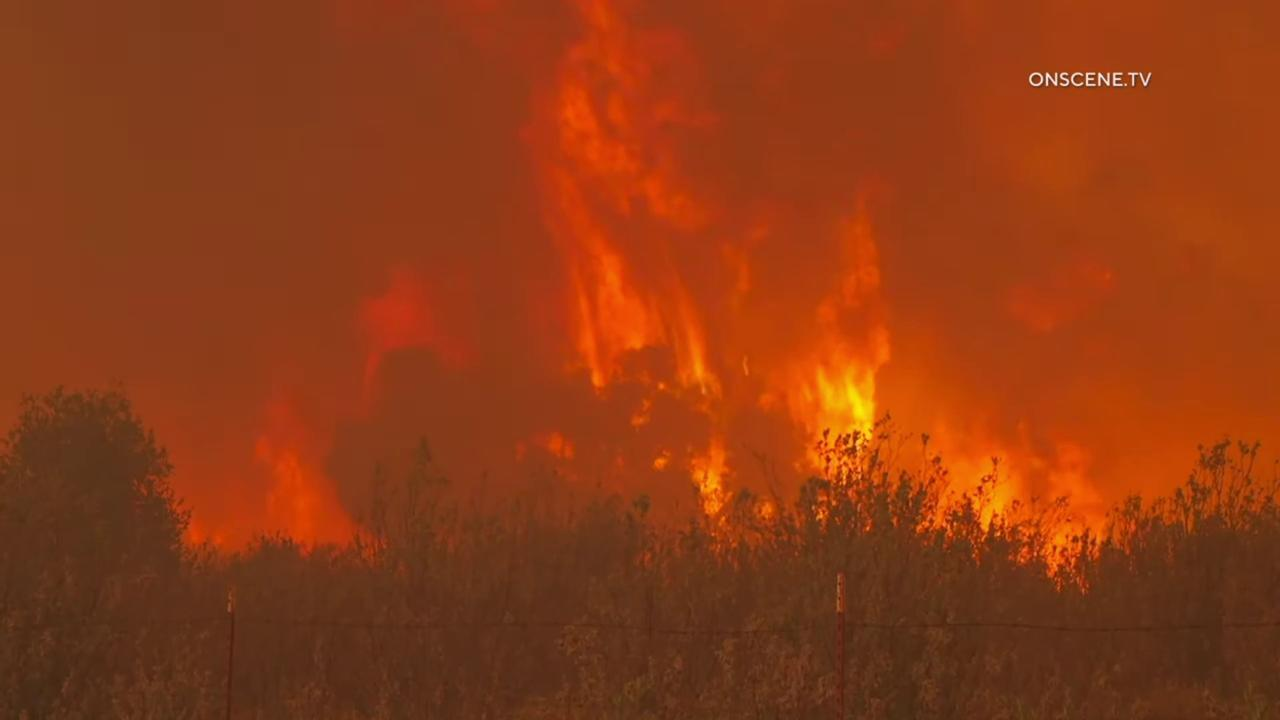fire: (505, 0, 1135, 601), (167, 253, 483, 563)
smoke: (0, 0, 1280, 615)
